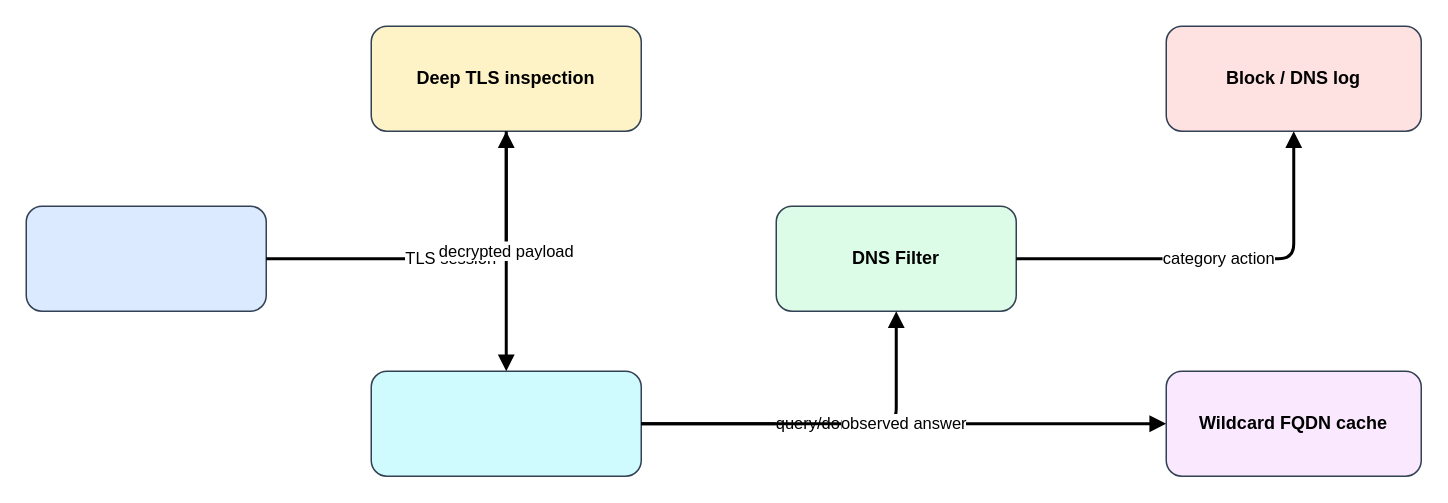
This 1448x503 diagram has some shape labels left out. Here are the shapes that lost their labels. From the top down, the box of each, then its label:
(25, 205, 266, 311): Client DoH/DoT
(370, 370, 641, 476): DNS parser
